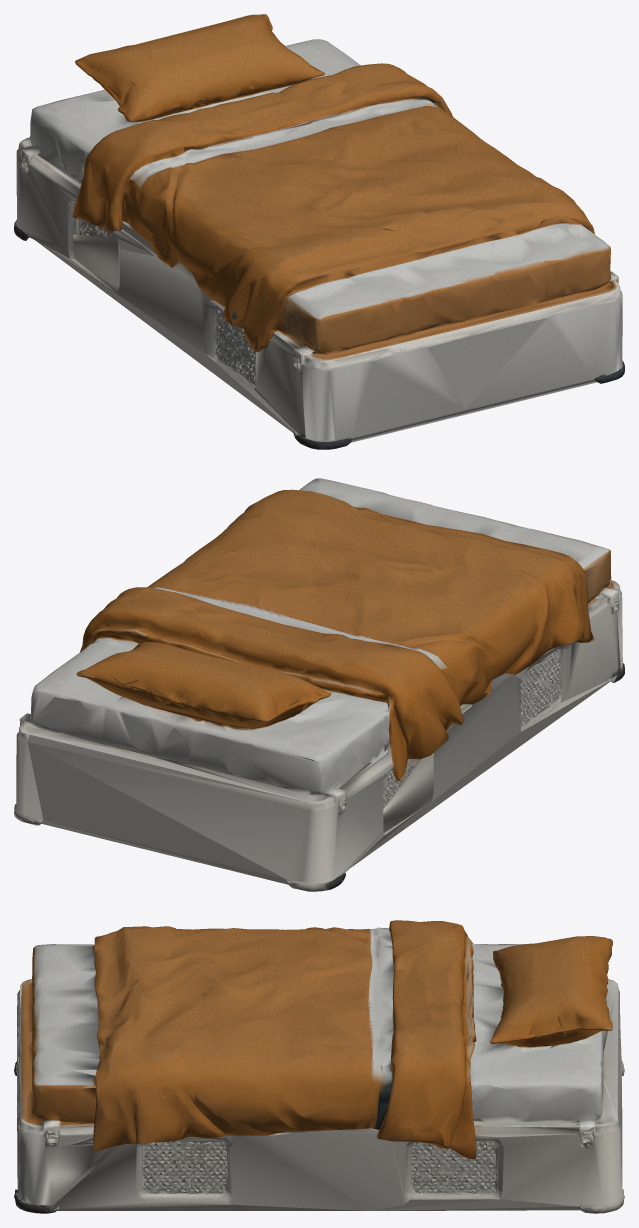
Rendered from bunk.glb.
3 renders of one model, top to bottom at view 1: azimuth 30°, elevation 25°; view 2: azimuth 150°, elevation 25°; view 3: azimuth 270°, elevation 25°, orthographic.
Parts seen in each view (by area): view 1: mesh_node; view 2: mesh_node; view 3: mesh_node.
Part boxes in pixels (x1,y1,x2,y2): mesh_node: [14, 14, 624, 449]; mesh_node: [14, 478, 624, 891]; mesh_node: [14, 920, 624, 1213].
Size of the model in its own units: 1.32 by 0.6 by 1.96.
Materials: 1 (1 with a texture image).
